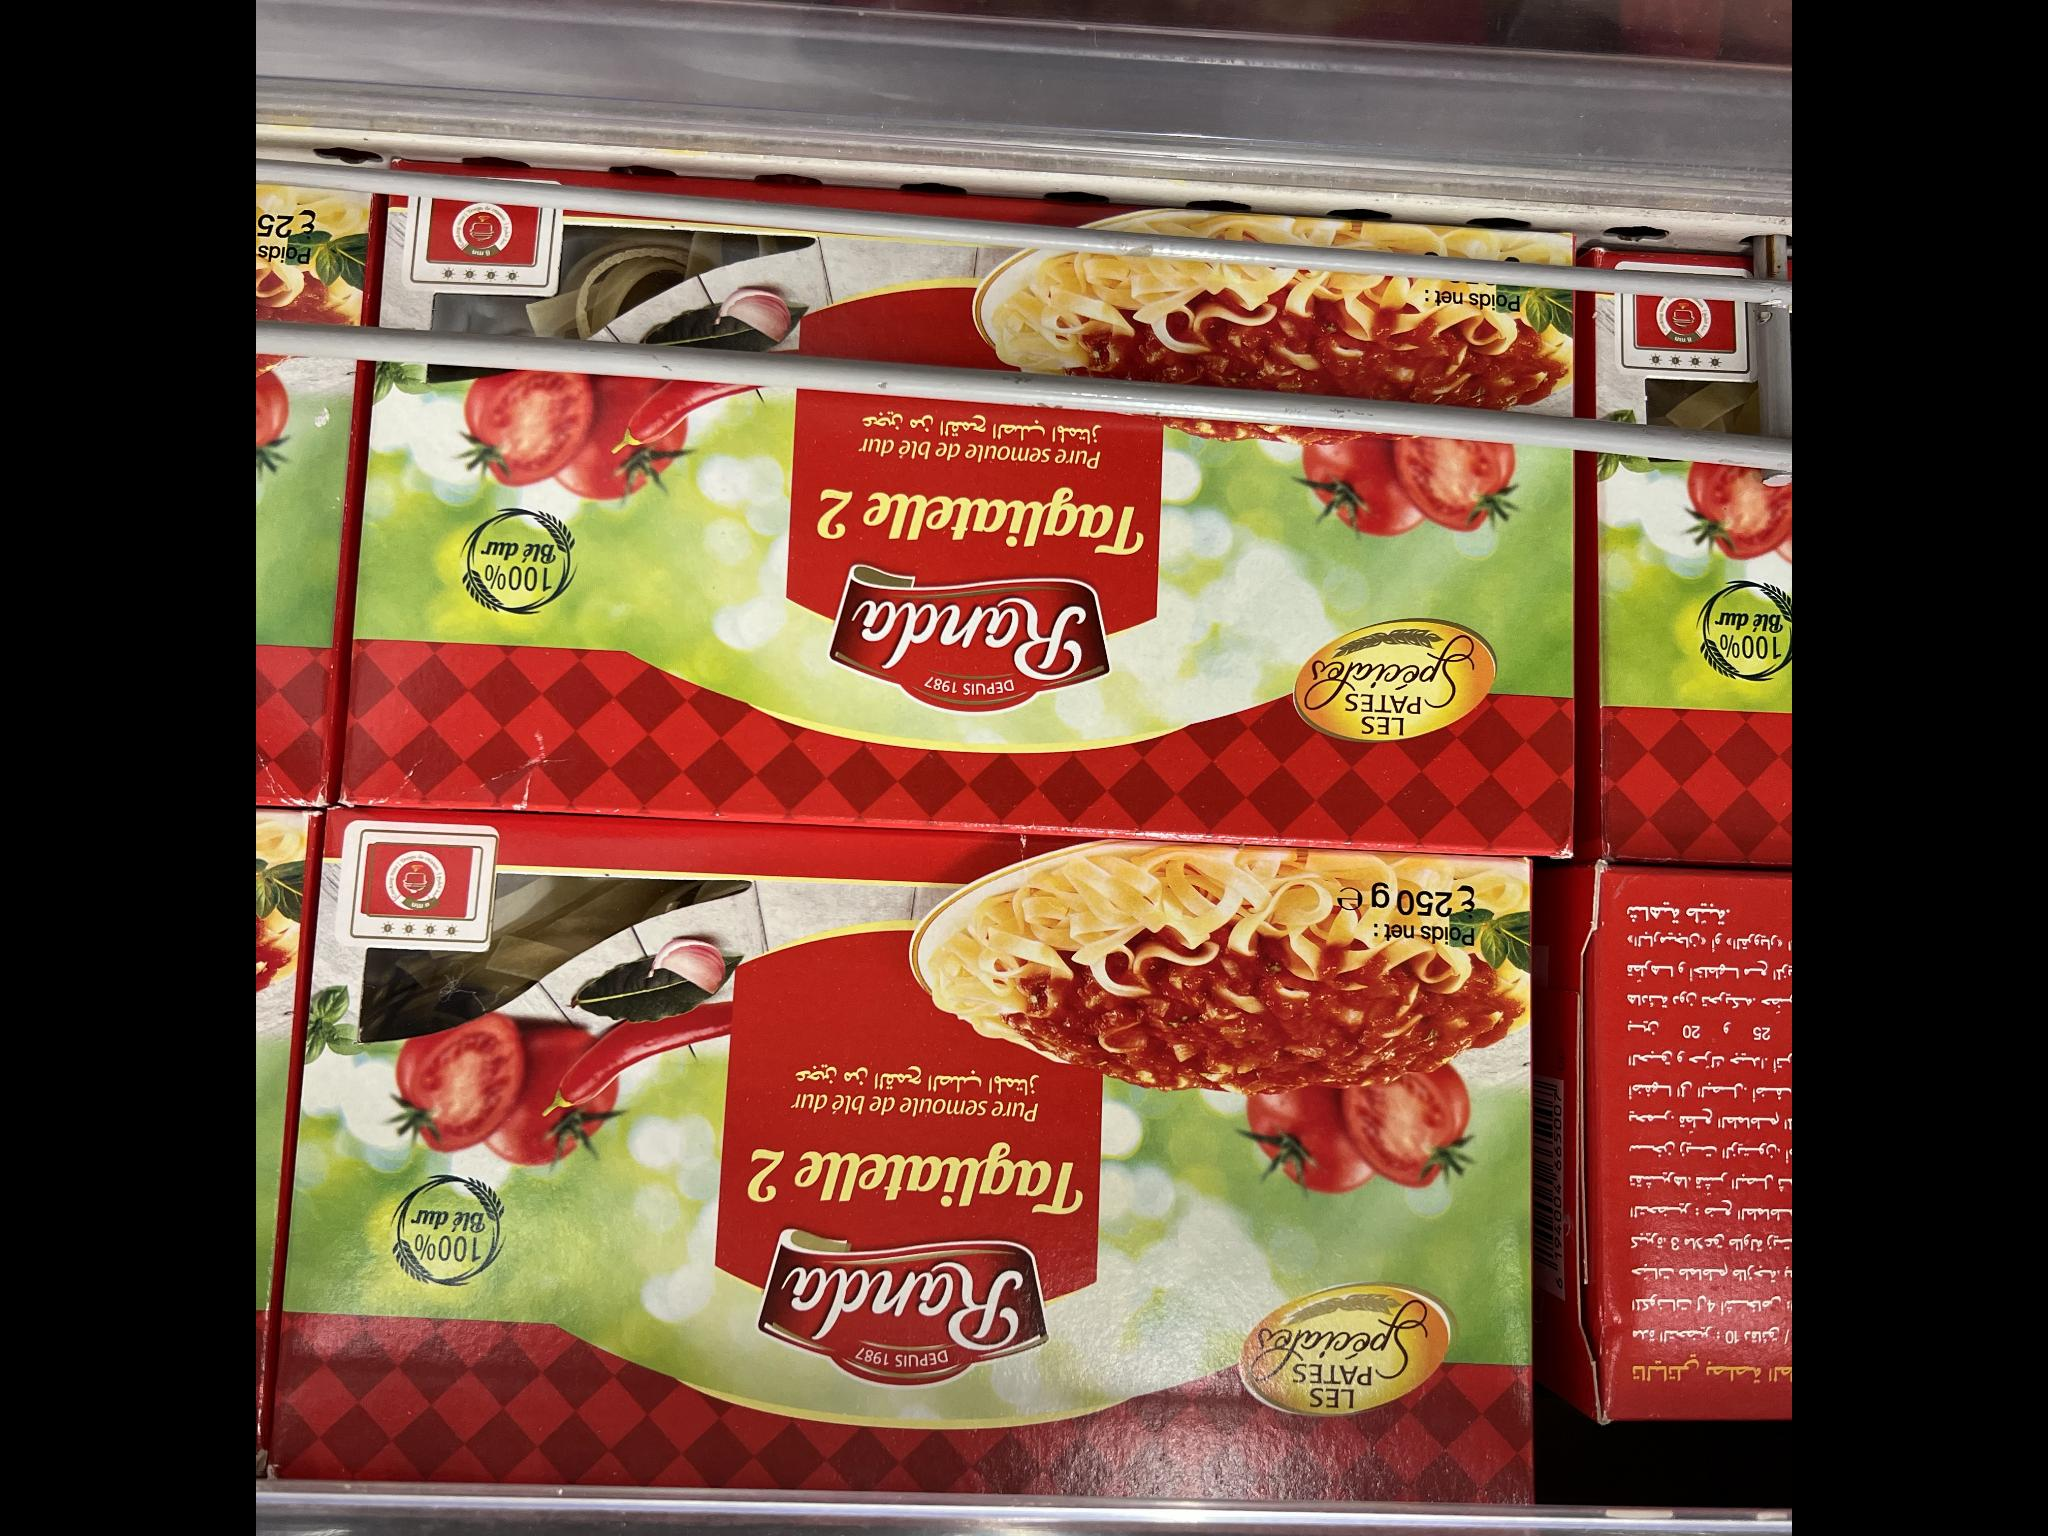Tagliatelle: (297, 815, 1530, 1489), (353, 194, 1564, 842)
